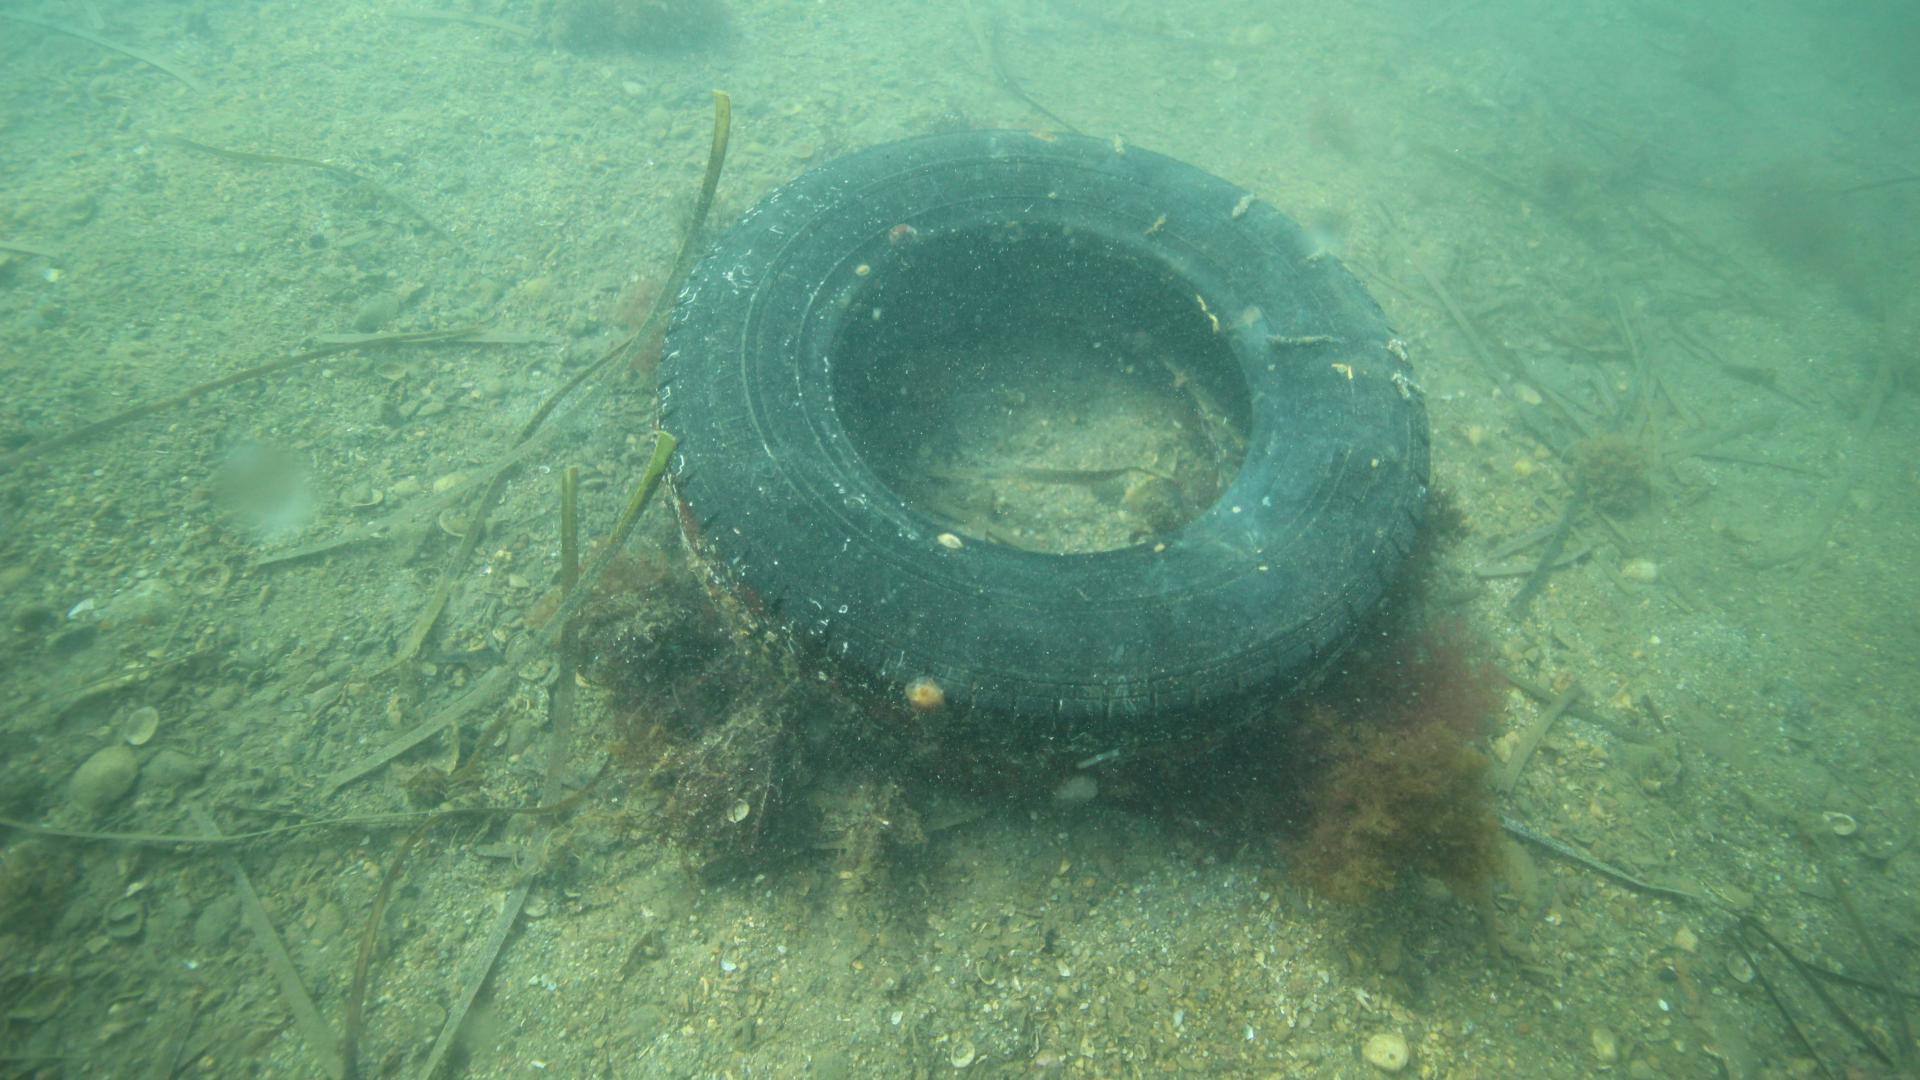tire: (655, 136, 1431, 767)
